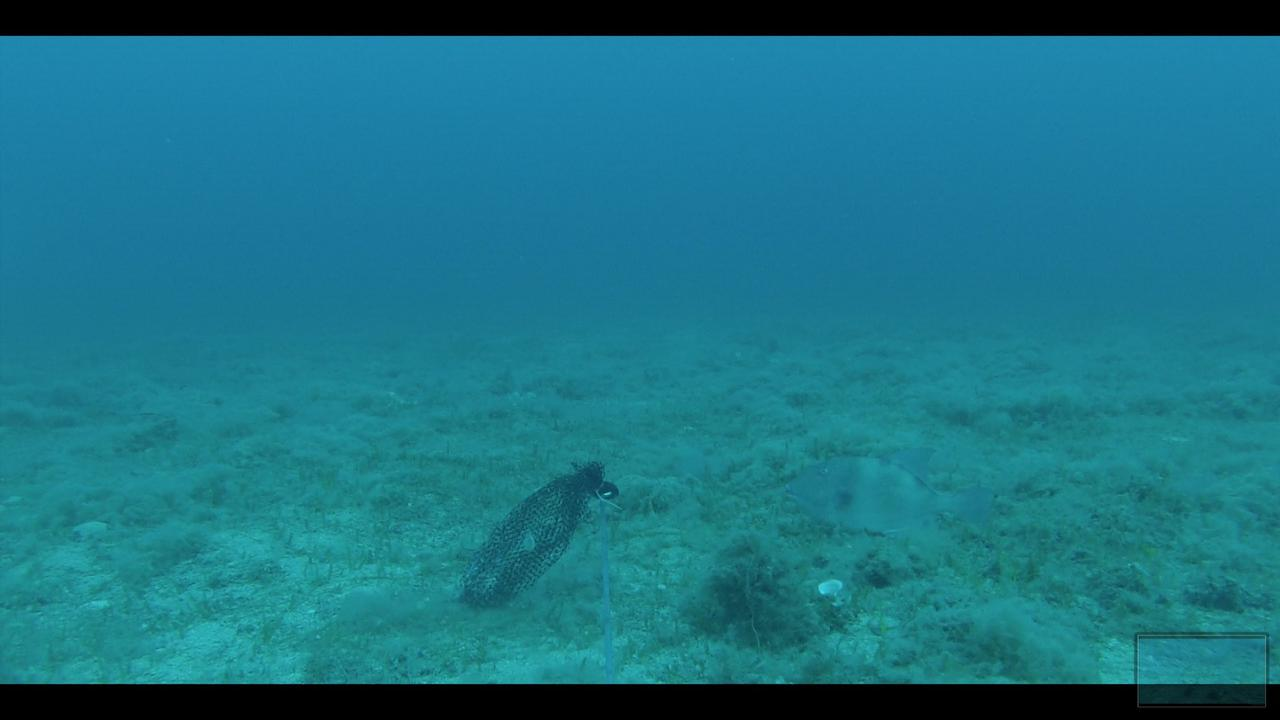balistes: (777, 442, 1011, 567)
